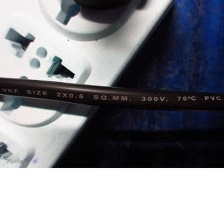three_eye_plug: (0, 0, 182, 177)
